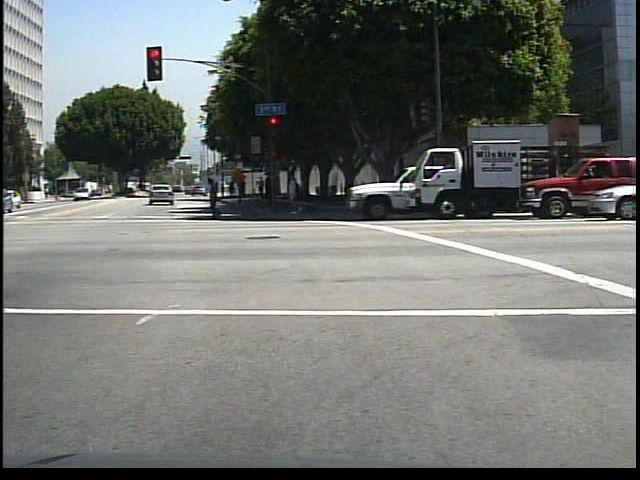person: (283, 168, 309, 216), (203, 178, 228, 220), (263, 171, 279, 214), (254, 174, 266, 198)
